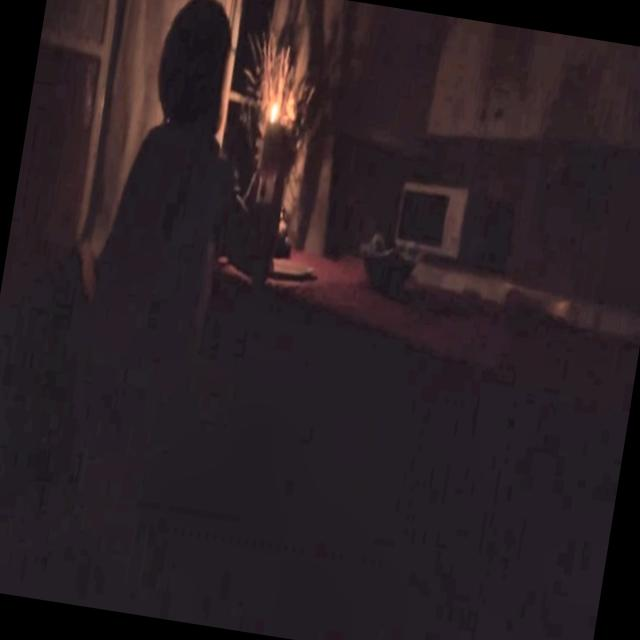fire: (248, 60, 304, 161)
